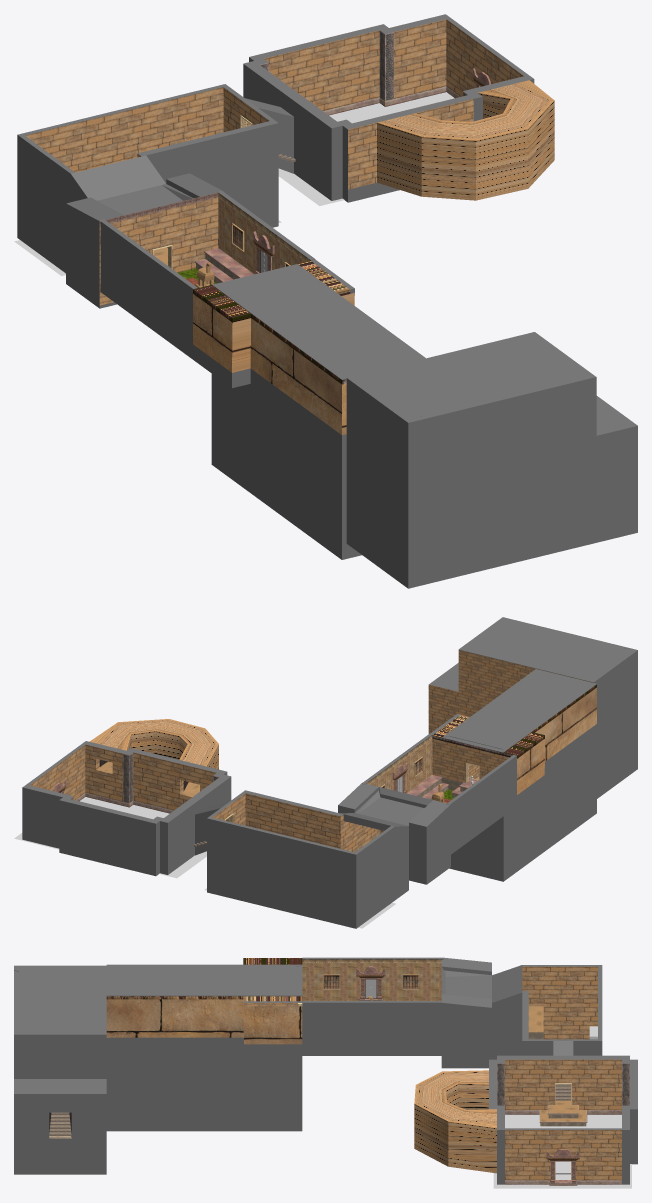
The picture shows the model from 3 angles, top to bottom: view 1: azimuth 30°, elevation 25°; view 2: azimuth 150°, elevation 25°; view 3: azimuth 270°, elevation 25°; orthographic projection. The views are drawn at different scales.
Visible parts, largest first — view 1: Box072, Box048, Box064, Object005, Plane018; view 2: Box072, Box064, Box048, Object005, Plane018; view 3: Box064, Box072, Box048, Object005, Plane018, Box070, Box087, Box071.
Boxes of the visible parts, x1,y1,x2,y2 form: Box072: (17, 14, 534, 308); Box048: (346, 332, 637, 588); Box064: (99, 190, 425, 559); Object005: (377, 80, 554, 200); Plane018: (278, 92, 454, 205); Box072: (22, 741, 450, 928); Box064: (362, 669, 596, 881); Box048: (428, 617, 637, 798); Object005: (89, 719, 218, 794); Plane018: (14, 797, 206, 878); Box064: (106, 957, 443, 1131); Box072: (441, 957, 637, 1184); Box048: (14, 965, 106, 1174); Object005: (414, 1070, 496, 1173); Plane018: (493, 1114, 631, 1188); Box070: (356, 966, 385, 1000); Box087: (546, 1149, 579, 1185); Box071: (323, 974, 419, 989).
Bounding box in the file's own units: 10363 × 15475 × 3826.
